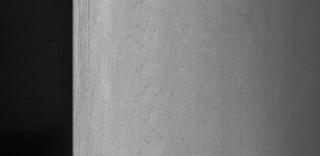silk spot: (126, 12, 204, 151)
